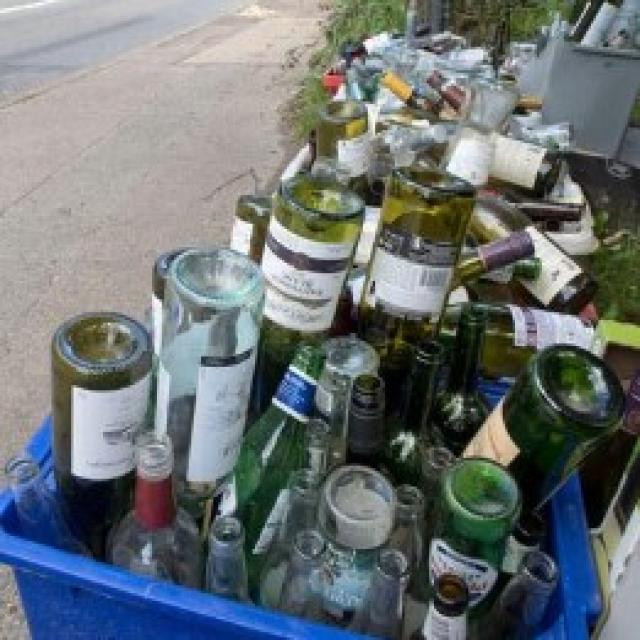electronic: (47, 164, 628, 640)
